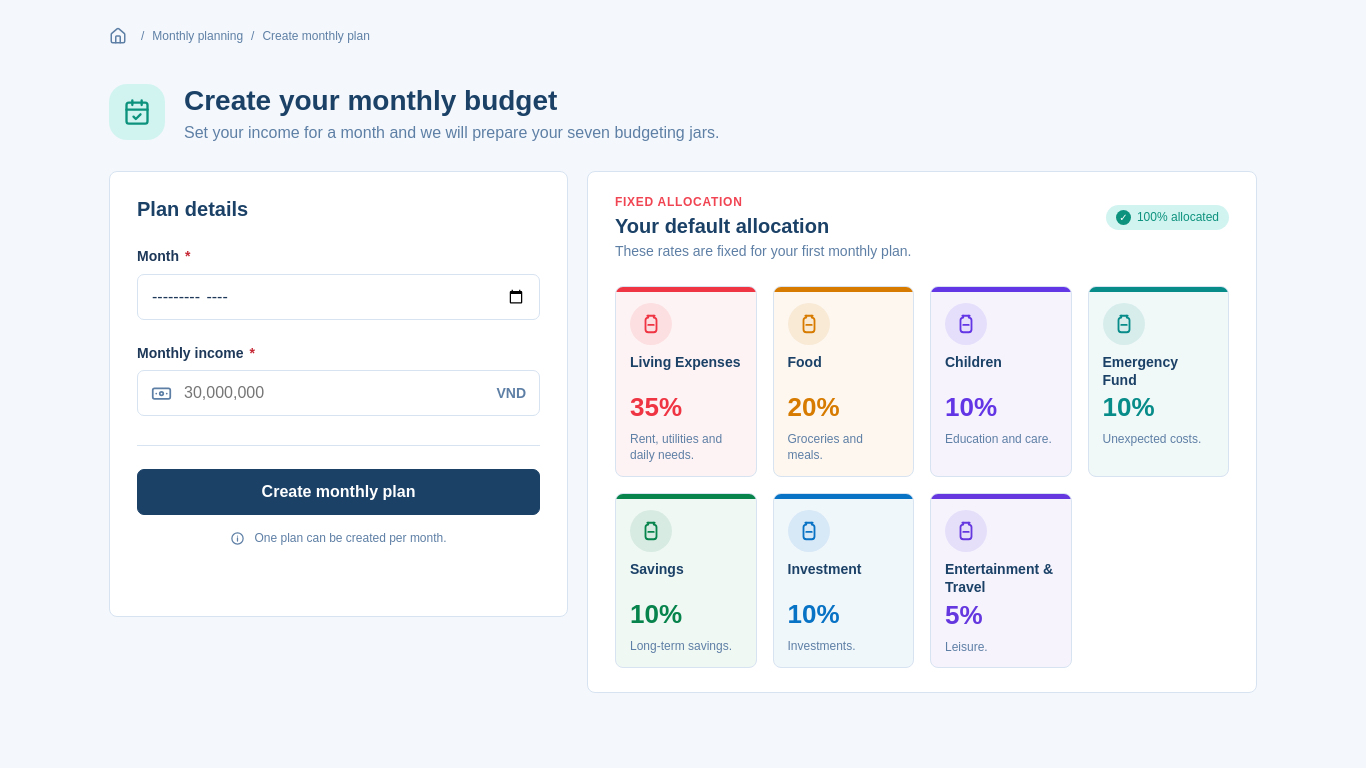
MonthlyPlanningPageComponent › client validation (TC_F1_003, TC_F1_004, TC_F1_011, AC3) › rejects income -1 for a valid month, keeps the typed value and focuses Income
In the field labelled "Month *": (338, 297) [151, 276, 526, 318], type "2026-09"
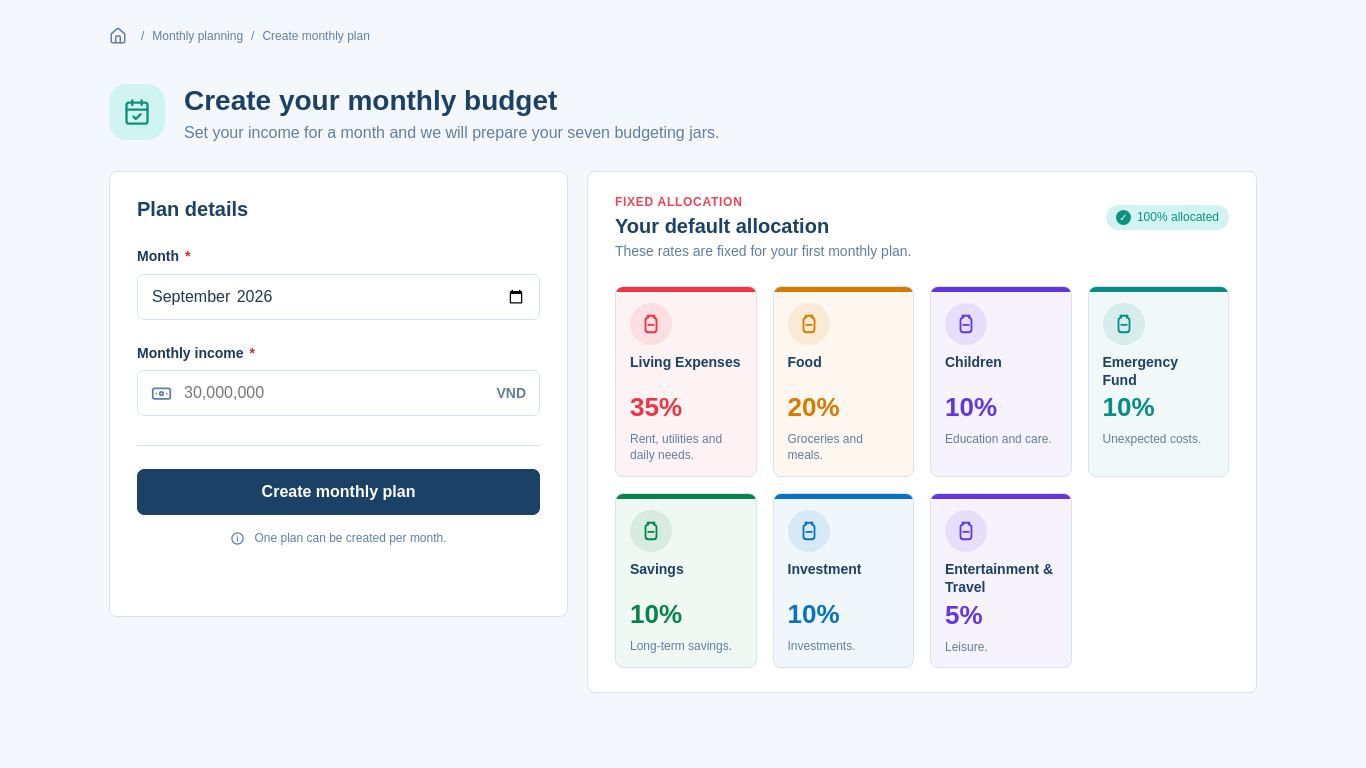
In the field with id "monthly-income": (334, 393) [184, 372, 484, 414], type "-1"
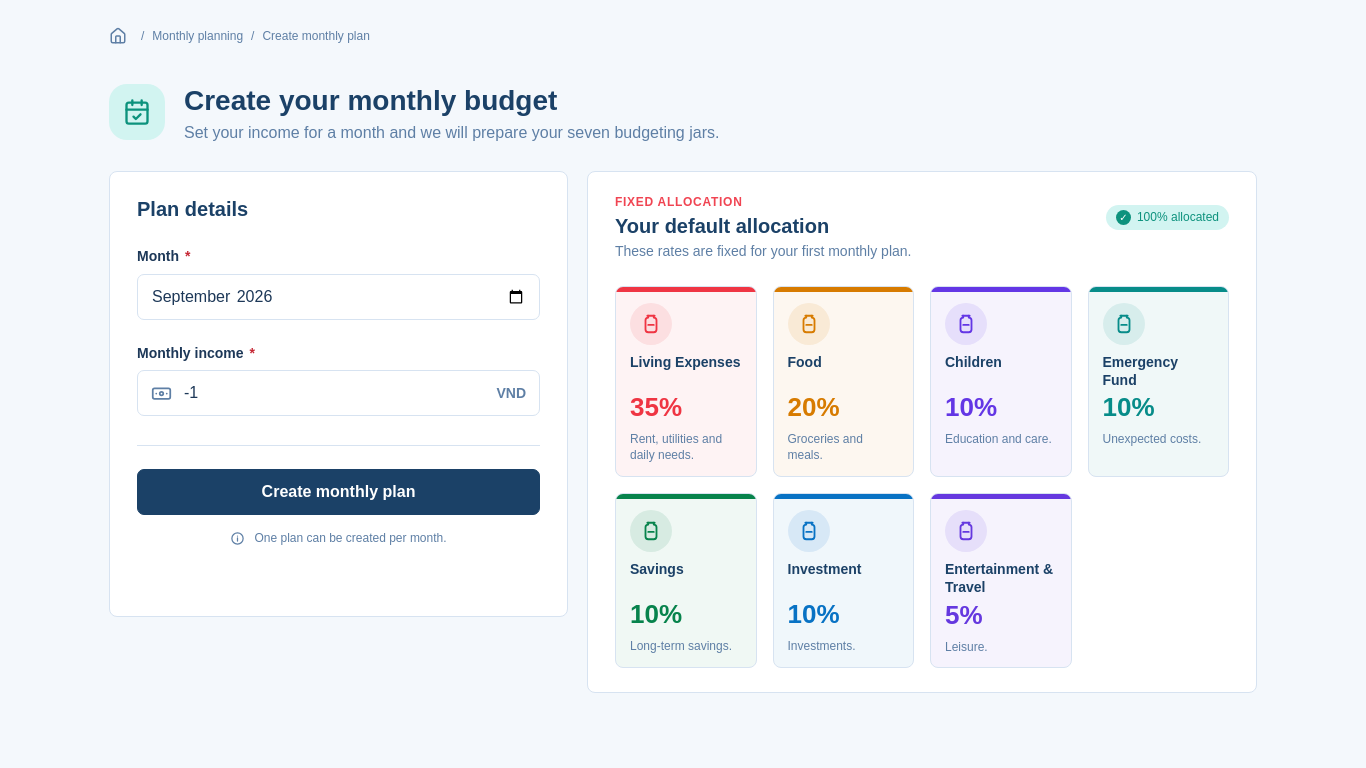
Click the button "Create monthly plan": (338, 492) [137, 469, 540, 515]
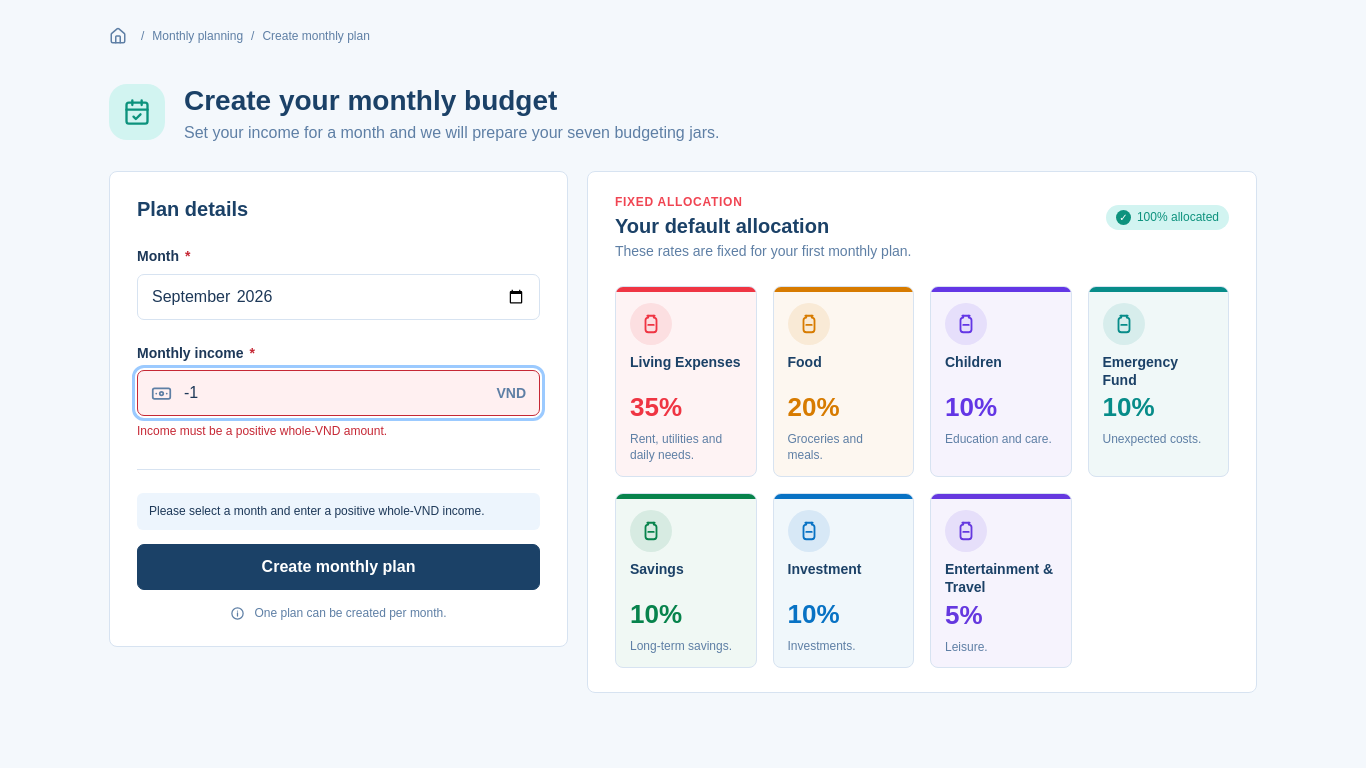
Expected: the message with id "income-error" reads "Income must be a positive whole-VND amount.", [137, 424, 387, 438]
Expected: the text "Please select a month and enter a positive whole-VND income." is shown, [137, 493, 540, 530]
